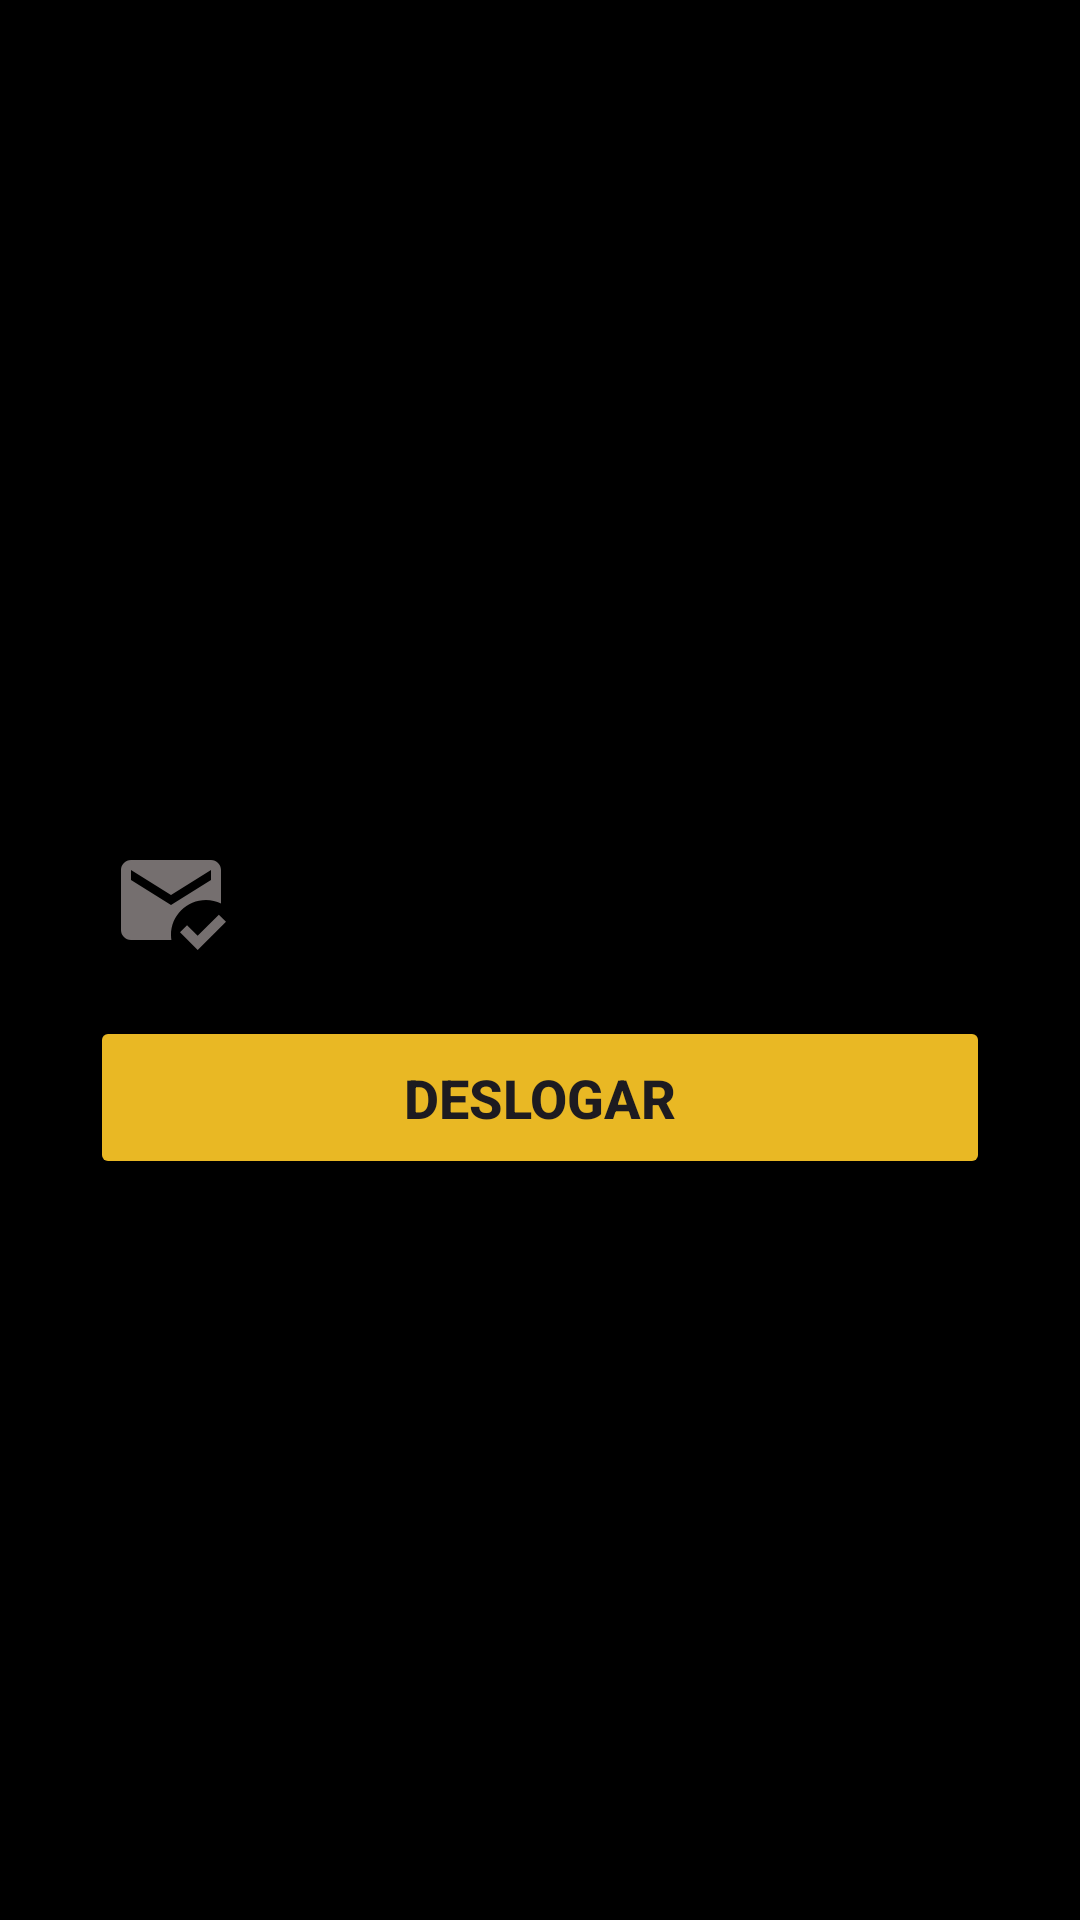

Icon click points for this 1080 × 1920 phone screenshot, format (x,y):
email: (173,905)
